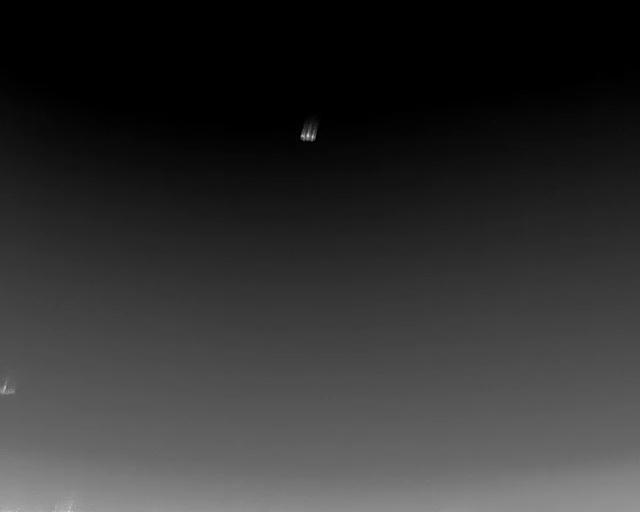fpv-drone: (300, 117, 317, 142)
